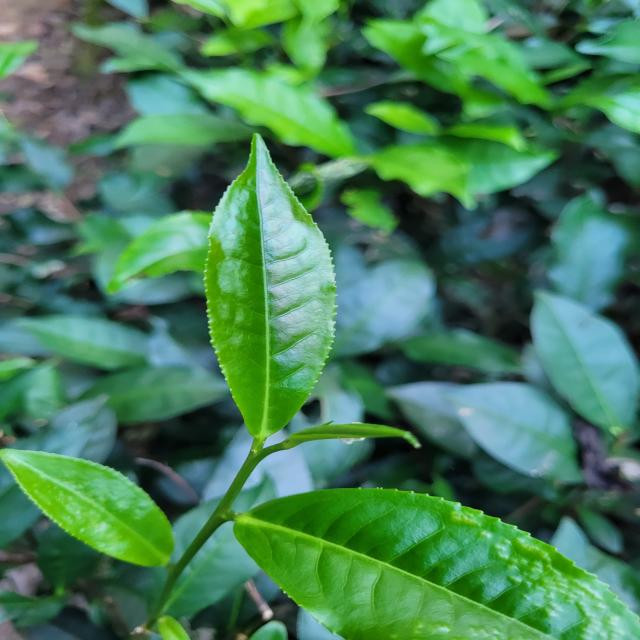Catagory A(1-2 days): (174, 122, 352, 460)
